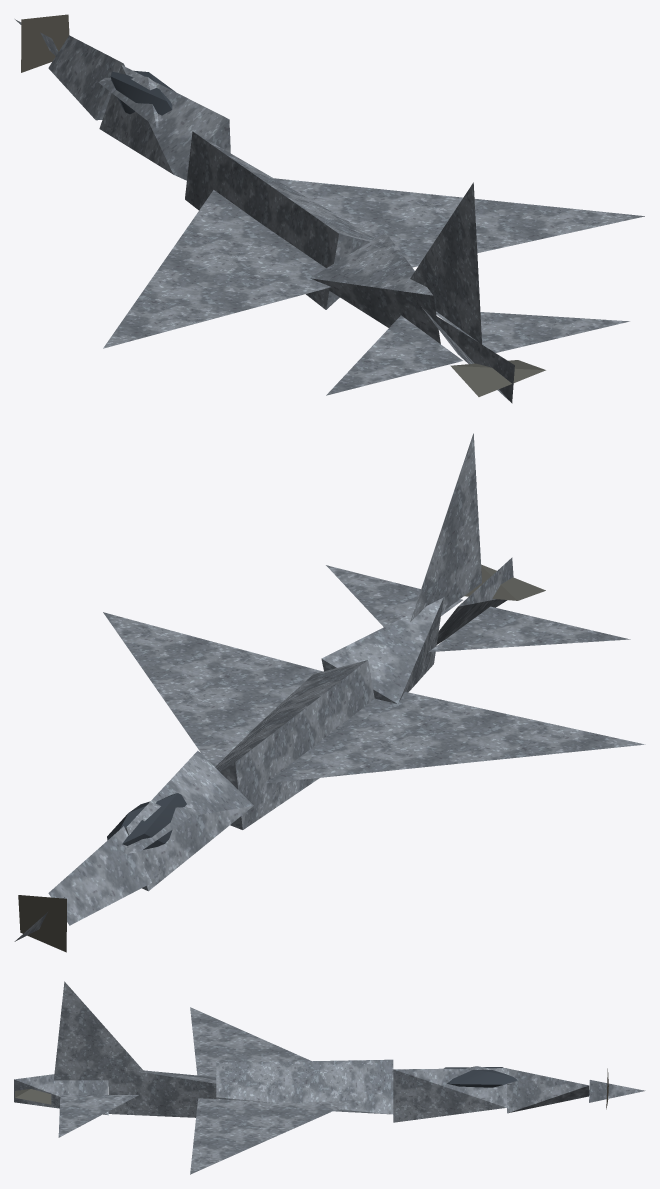
Rendered from air_e1_us_interceptor_LOD2.glb.
3 views of the same model, one above another, from view 1: azimuth 30°, elevation 25°; view 2: azimuth 150°, elevation 25°; view 3: azimuth 270°, elevation 25° (orthographic). The views are drawn at different scales.
Visible parts, largest first — view 1: air_e1_us_interceptor_LOD2_body, air_e1_us_interceptor_LOD2_deck, air_e1_us_interceptor_LOD2_gun, air_e1_us_interceptor_LOD2_glass; view 2: air_e1_us_interceptor_LOD2_body, air_e1_us_interceptor_LOD2_deck, air_e1_us_interceptor_LOD2_glass, air_e1_us_interceptor_LOD2_gun; view 3: air_e1_us_interceptor_LOD2_body, air_e1_us_interceptor_LOD2_glass, air_e1_us_interceptor_LOD2_gun.
Boxes of the visible parts, x1,y1,x2,y2 form: air_e1_us_interceptor_LOD2_body: (15, 19, 644, 403); air_e1_us_interceptor_LOD2_deck: (21, 14, 69, 72); air_e1_us_interceptor_LOD2_gun: (450, 360, 545, 396); air_e1_us_interceptor_LOD2_glass: (110, 70, 175, 115); air_e1_us_interceptor_LOD2_body: (14, 433, 645, 941); air_e1_us_interceptor_LOD2_deck: (18, 895, 66, 952); air_e1_us_interceptor_LOD2_glass: (107, 793, 186, 849); air_e1_us_interceptor_LOD2_gun: (464, 564, 545, 600); air_e1_us_interceptor_LOD2_body: (14, 981, 645, 1174); air_e1_us_interceptor_LOD2_glass: (444, 1067, 517, 1087); air_e1_us_interceptor_LOD2_gun: (15, 1089, 51, 1104).
Size of the model in its own units: 12.06 by 4.55 by 19.22.
Materials: 4 (1 with a texture image).
